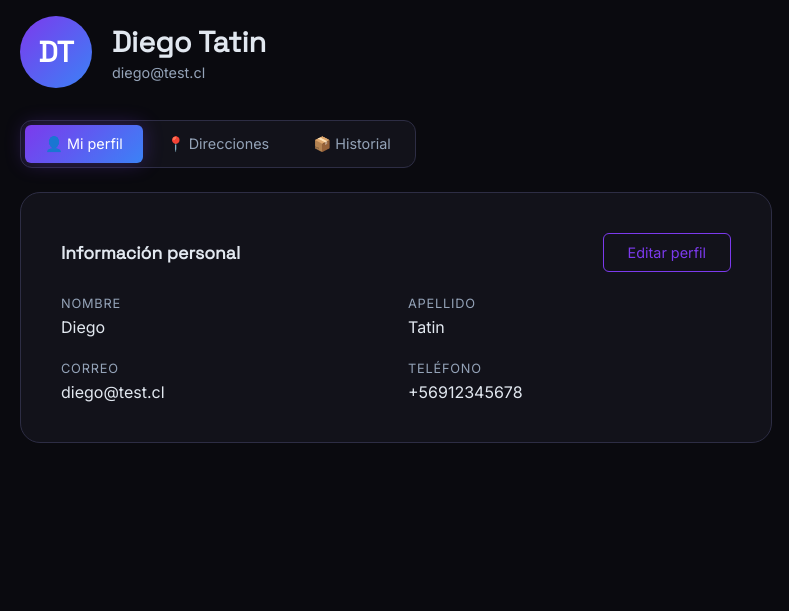
Test: HU-06 · Gestión de perfil › CA3: al hacer clic en editar muestra el formulario de edición
Click the button with test id "btn-editar": click(667, 252) left=603, top=233, right=731, bottom=272
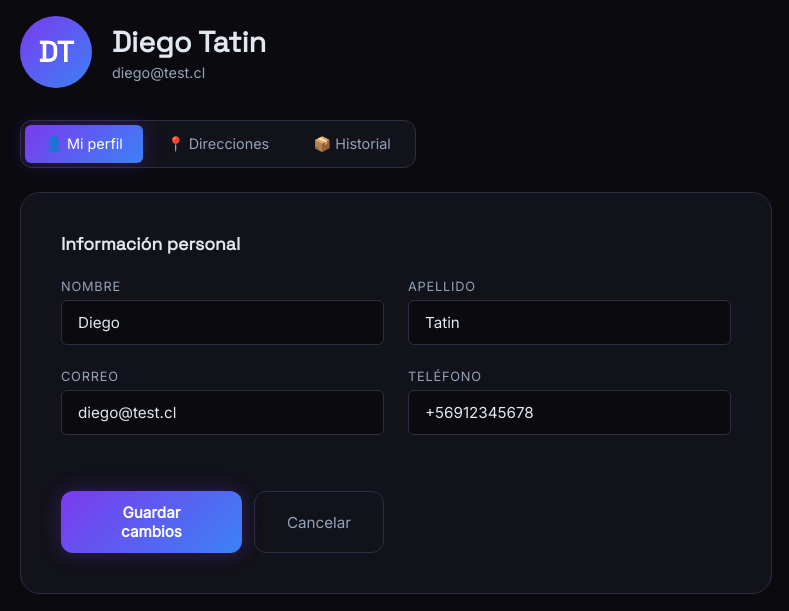
expect the element with test id "form-edicion" is shown: met, box left=61, top=279, right=731, bottom=553
expect the field with test id "input-nombre" is shown: met, box left=61, top=300, right=384, bottom=345
